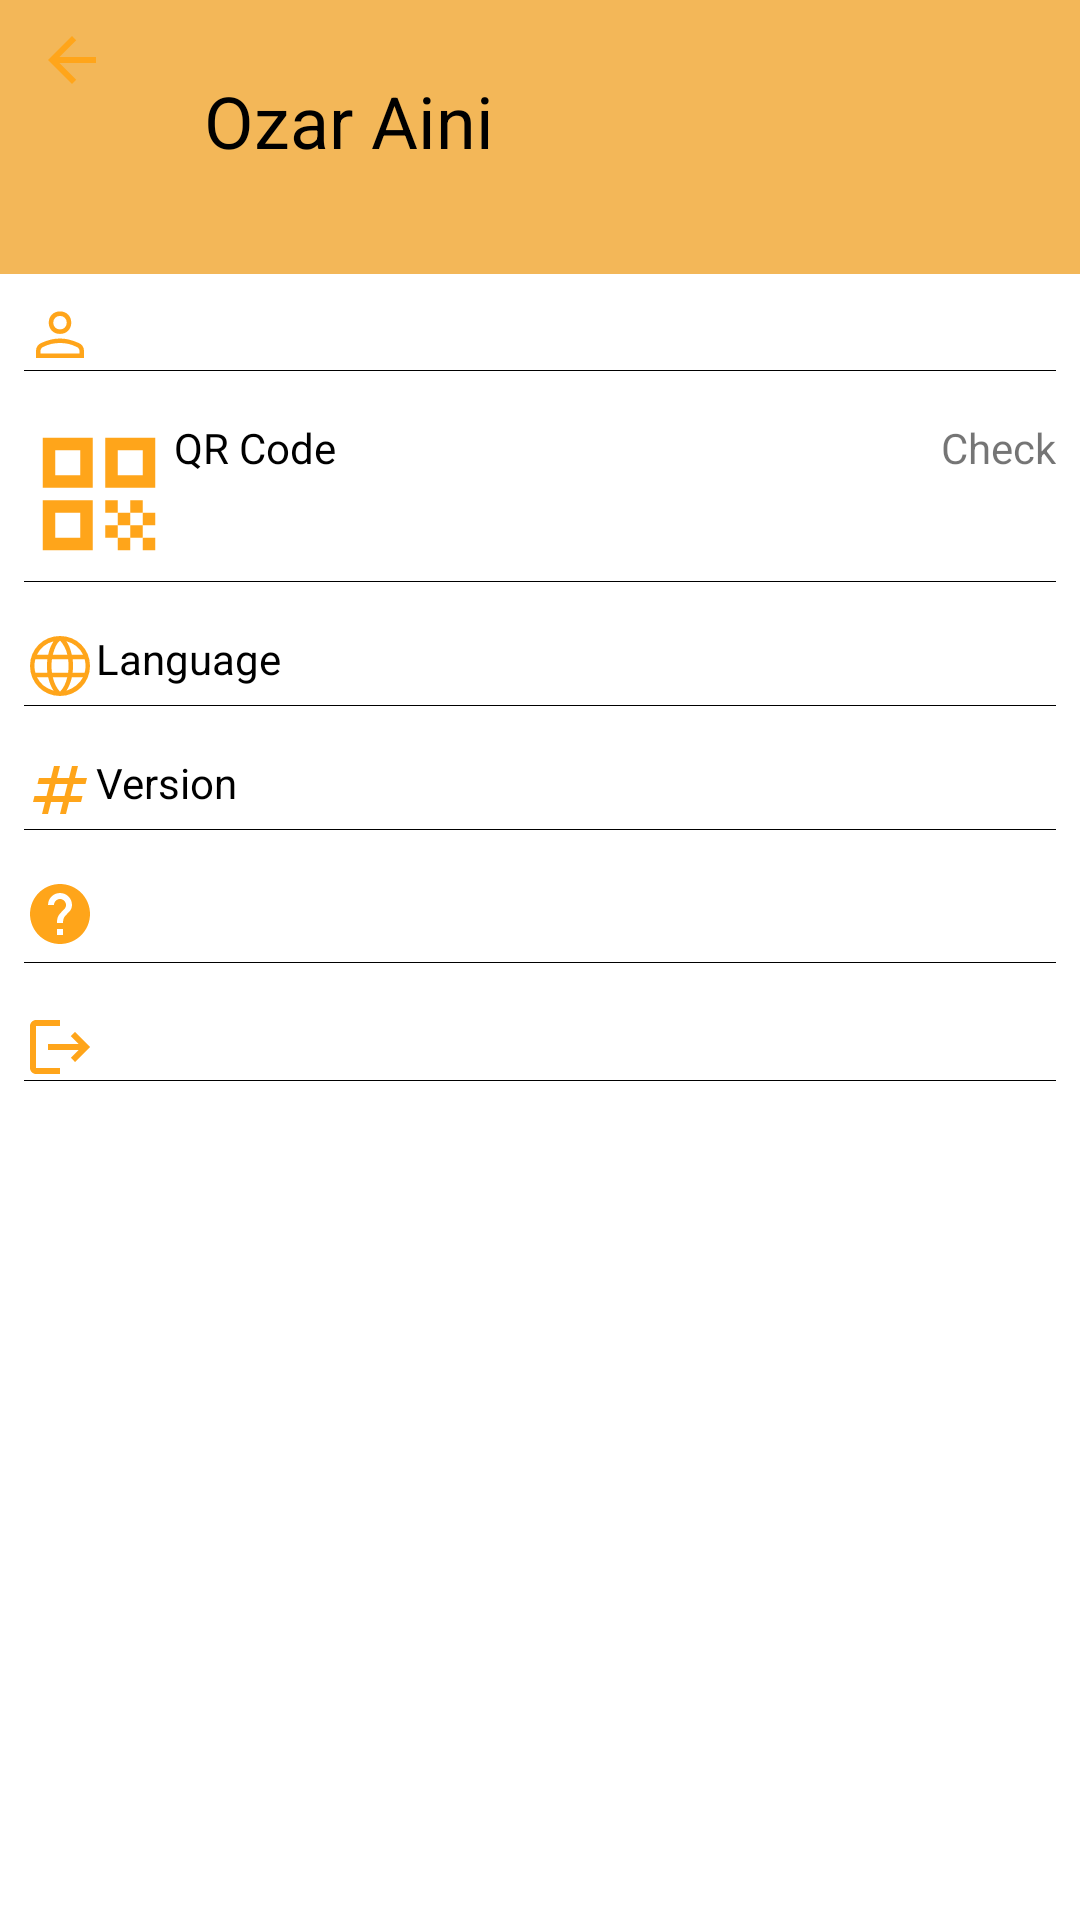

Named icons in this screenshot (1080x1920) and their centers, (x,y):
back: (72,60)
help: (60,914)
log out: (60,1047)
